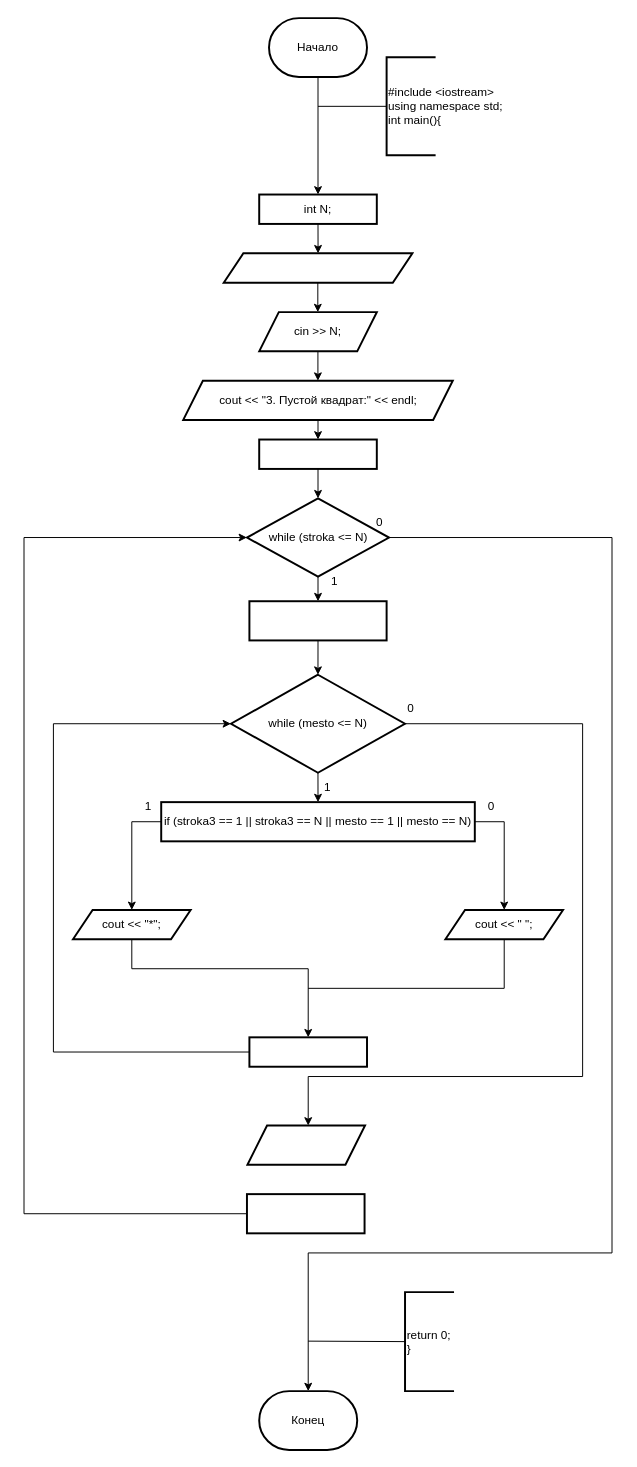
Some shapes in this 637 by 1467 pixel diagram are drawn without their labels. Here are the shapes that lost their labels. From the top down, the centre of each, then its label:
point (317, 267): cout << "Введите N: ";
point (317, 453): int stroka3 = 1;
point (317, 620): int mesto = 1;
point (308, 1051): mesto++;
point (306, 1144): cout << endl;
point (305, 1213): stroka3++;
